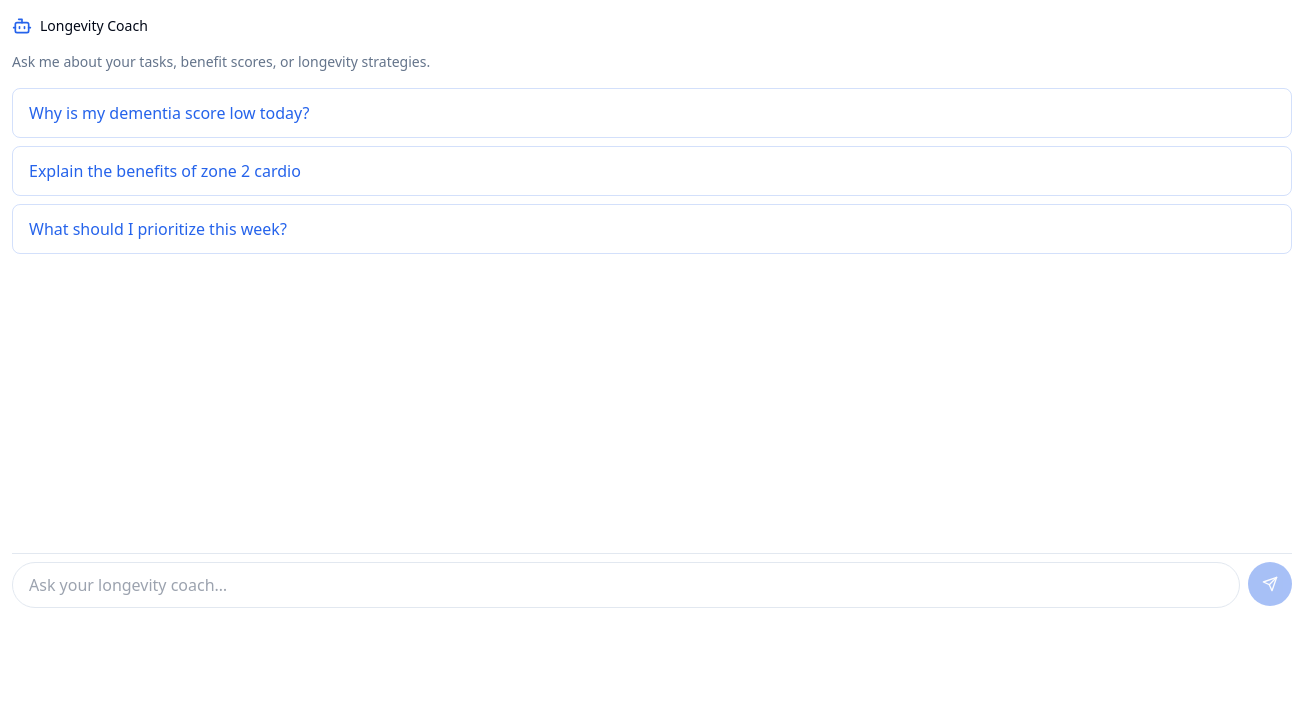
Test case: MarkdownMessage rendering › renders ## heading as bold paragraph
The image size is (1304, 720).
Step 1. Type "test" into the field with placeholder "Ask your longevity coach…" → [626, 585], box [12,562,1240,608]
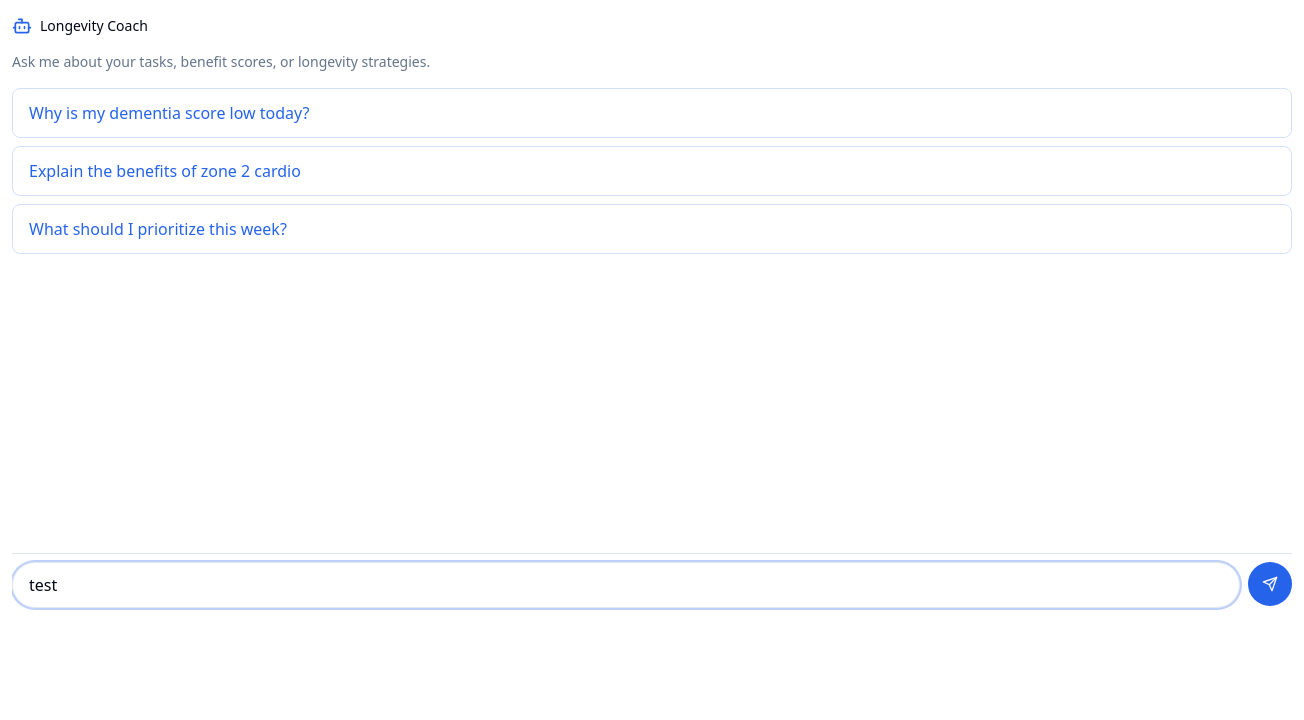
Step 2. Click the 4th button → [1270, 584], box [1248,562,1292,606]
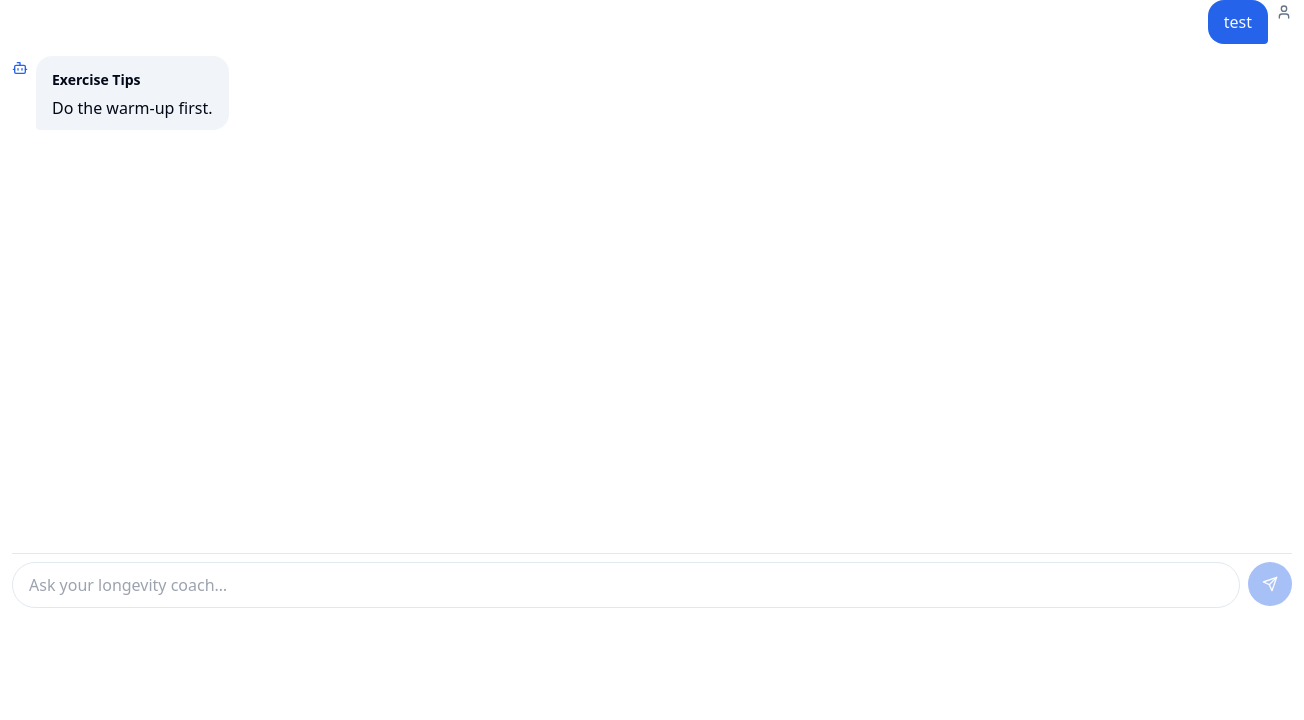
Expected: the text "Exercise Tips" is shown, [52,70,140,89]
Expected: the text "Do the warm-up first." is shown, [52,96,212,120]
